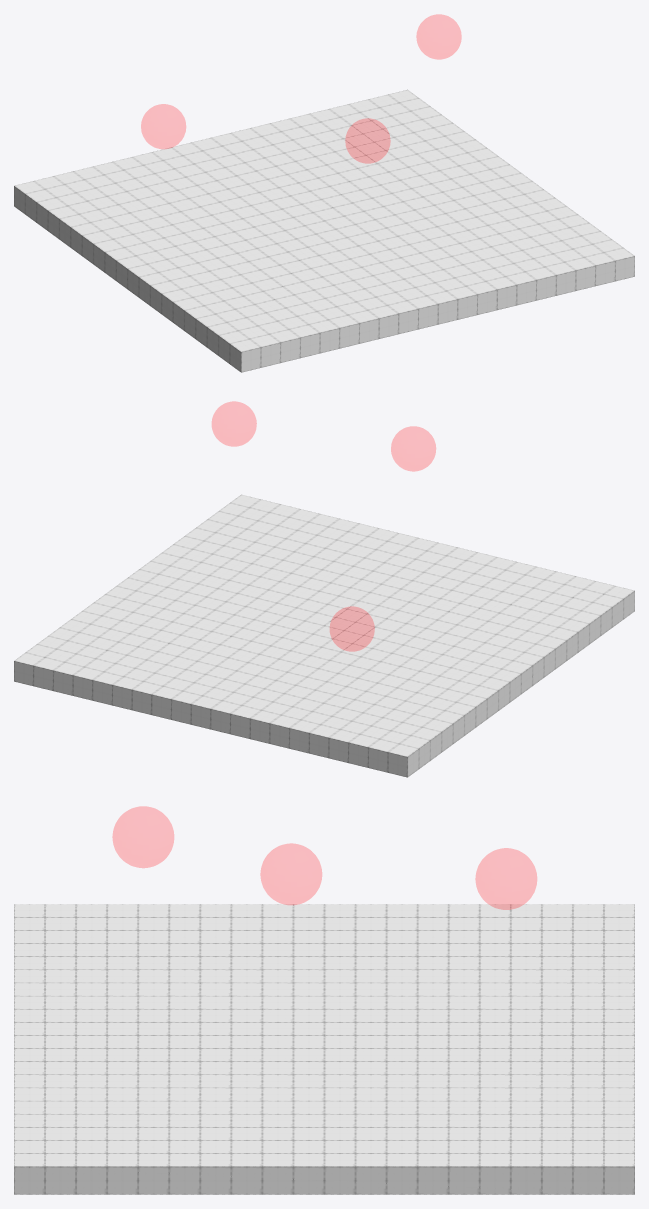
File: small.glb
The picture shows the model from 3 angles, top to bottom: view 1: azimuth 30°, elevation 25°; view 2: azimuth 150°, elevation 25°; view 3: azimuth 270°, elevation 25°; orthographic projection. The views are drawn at different scales.
Visible parts, largest first — view 1: Cube, Sphere, Sphere.002, Sphere.001; view 2: Cube, Sphere.001, Sphere, Sphere.002; view 3: Cube, Sphere, Sphere.001, Sphere.002.
Part boxes in pixels (<box>): Cube: <box>14,89,634,372</box>; Sphere: <box>141,104,185,148</box>; Sphere.002: <box>416,14,461,59</box>; Sphere.001: <box>345,118,390,163</box>; Cube: <box>14,494,634,777</box>; Sphere.001: <box>391,426,435,471</box>; Sphere: <box>330,606,374,651</box>; Sphere.002: <box>212,401,256,446</box>; Cube: <box>14,904,634,1194</box>; Sphere: <box>475,848,536,909</box>; Sphere.001: <box>112,806,173,867</box>; Sphere.002: <box>260,843,321,904</box>.
Size of the model in its own units: 20 by 10.15 by 20.
2 materials, 1 textured.
